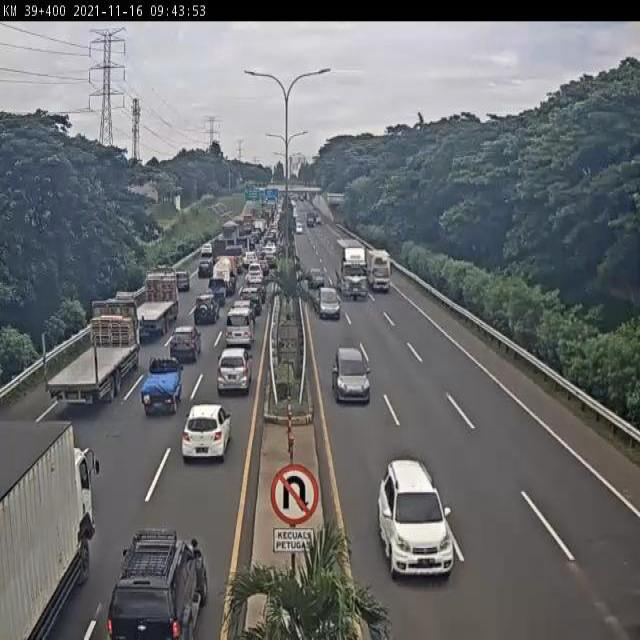car: (98, 532, 210, 640), (376, 459, 456, 581), (183, 404, 231, 461), (138, 356, 183, 415), (332, 346, 371, 406), (217, 347, 253, 397), (168, 325, 201, 368), (225, 308, 254, 349), (315, 286, 343, 322), (189, 296, 216, 332), (206, 279, 226, 305), (175, 269, 193, 296), (308, 267, 324, 289)
small truck: (365, 248, 390, 291)
truck-l-: (41, 297, 143, 411), (131, 269, 181, 347), (333, 236, 365, 296)
